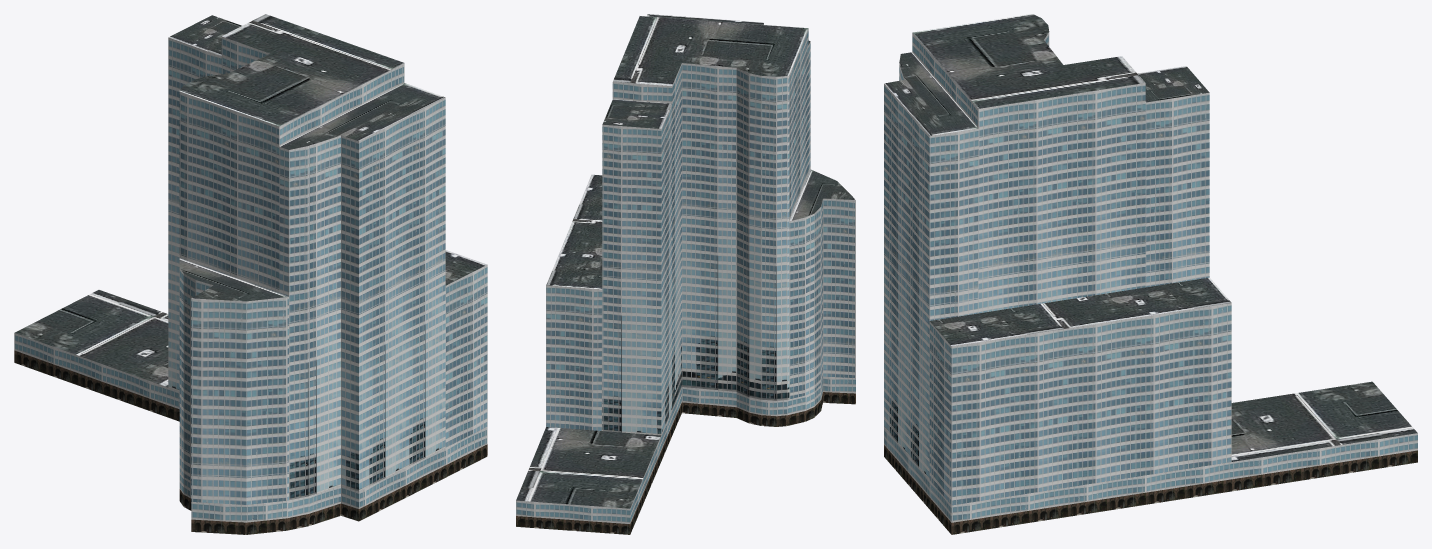
The model's file is building.dae.
The picture shows the model from 3 angles, left to right: view 1: azimuth 30°, elevation 25°; view 2: azimuth 150°, elevation 25°; view 3: azimuth 270°, elevation 25°; orthographic projection. The views are drawn at different scales.
Visible parts, largest first — view 1: CityEngineMaterial2, CityEngineMaterial, CityEngineMaterial1; view 2: CityEngineMaterial2, CityEngineMaterial, CityEngineMaterial1; view 3: CityEngineMaterial2, CityEngineMaterial, CityEngineMaterial1.
Boxes of the visible parts, left/top/right/bottom form: CityEngineMaterial2: left=14, top=36, right=487, bottom=522; CityEngineMaterial: left=15, top=14, right=486, bottom=387; CityEngineMaterial1: left=14, top=350, right=487, bottom=534; CityEngineMaterial2: left=516, top=23, right=855, bottom=523; CityEngineMaterial: left=516, top=14, right=855, bottom=508; CityEngineMaterial1: left=516, top=392, right=855, bottom=534; CityEngineMaterial2: left=884, top=32, right=1417, bottom=522; CityEngineMaterial: left=884, top=14, right=1417, bottom=461; CityEngineMaterial1: left=884, top=445, right=1417, bottom=534.
Size of the model in its own units: 114 by 146 by 179.
Materials: 3 (3 with a texture image).
